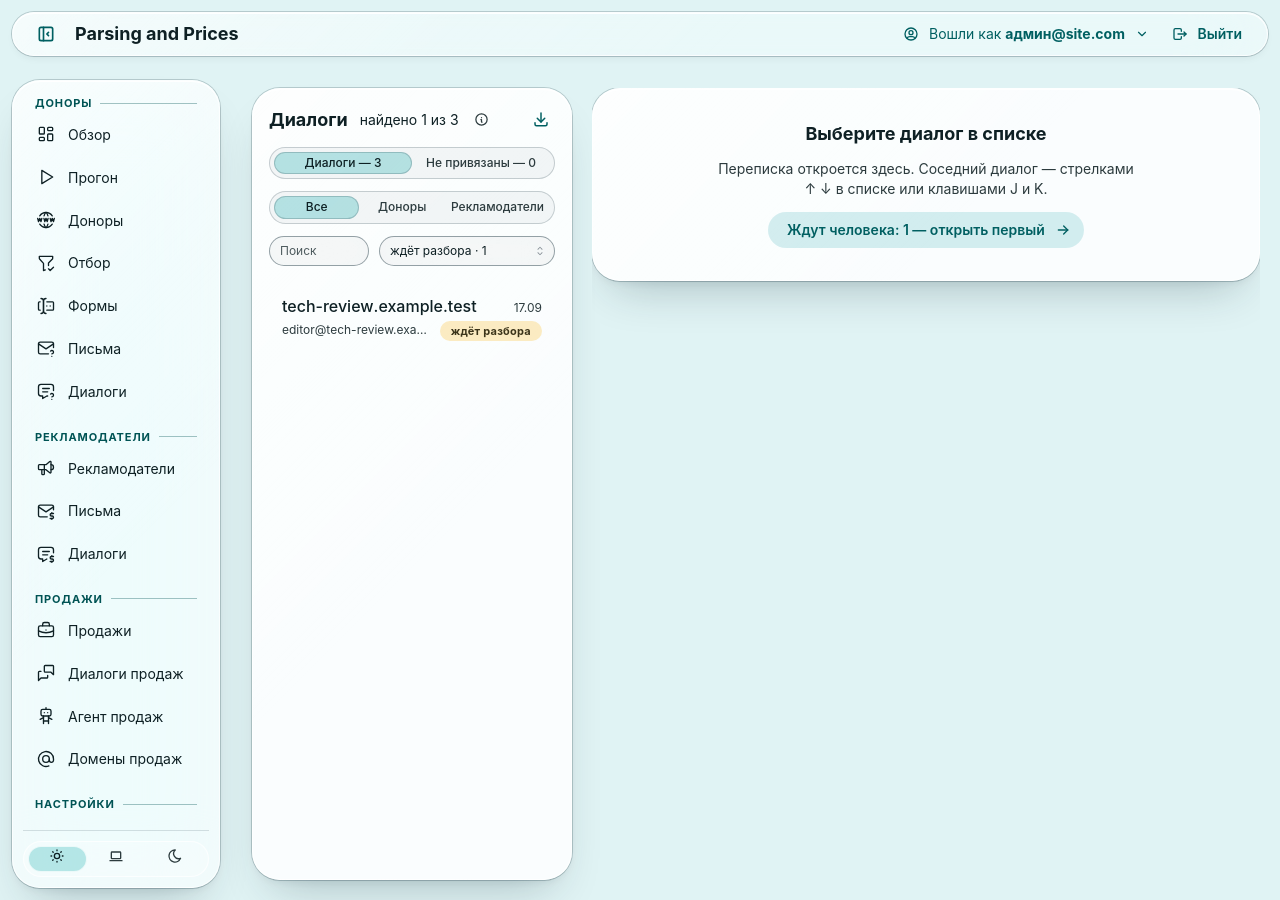
Test: диалоги на широком окне: список и переписка рядом › выбор строки держит фильтр в адресе диалога
The width and height of the screenshot is (1280, 900).
Click the link "tech-review" at (412, 317), box [269,281,555,354]
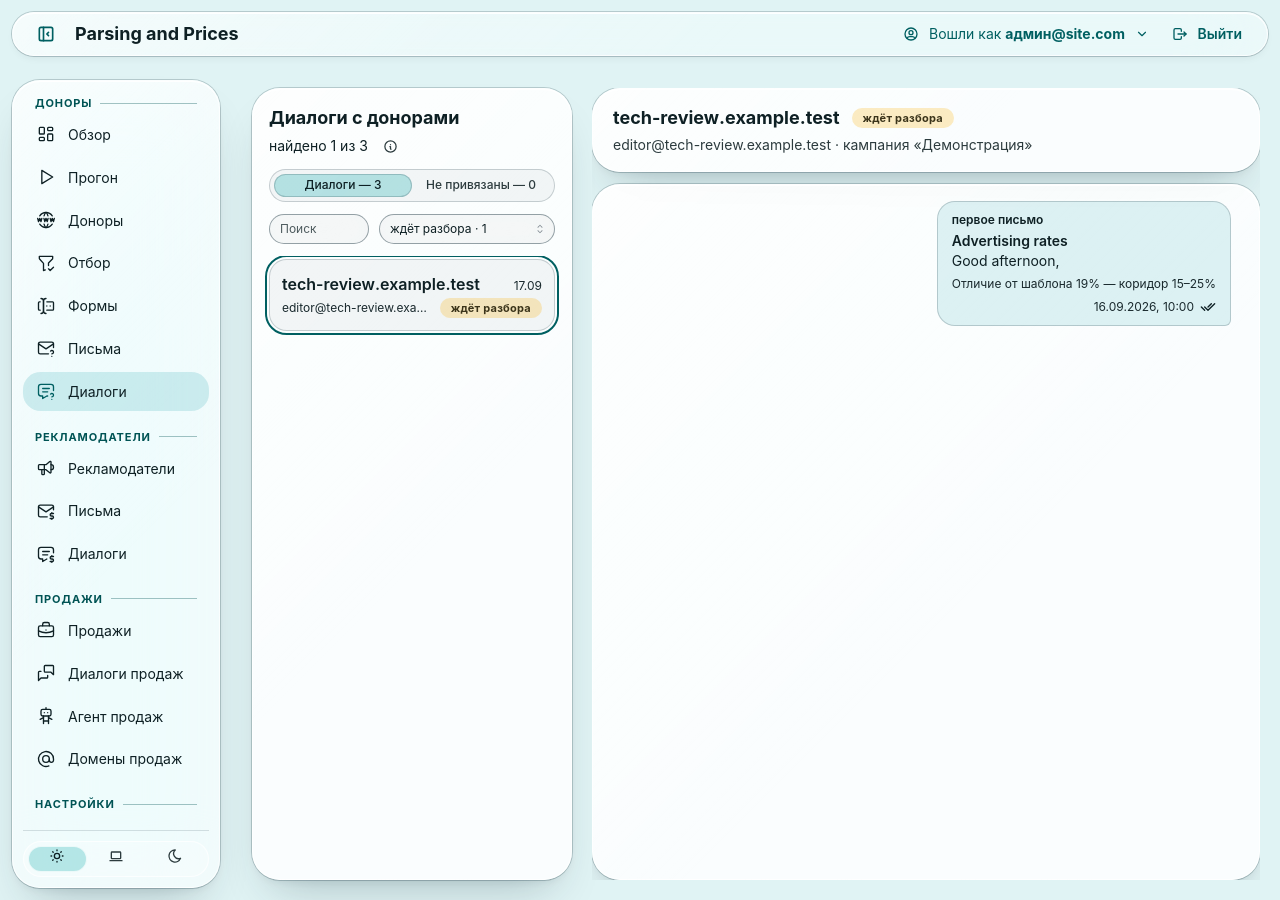
expect the heading "tech-review.example.test" is shown: met, box [613,105,840,131]
